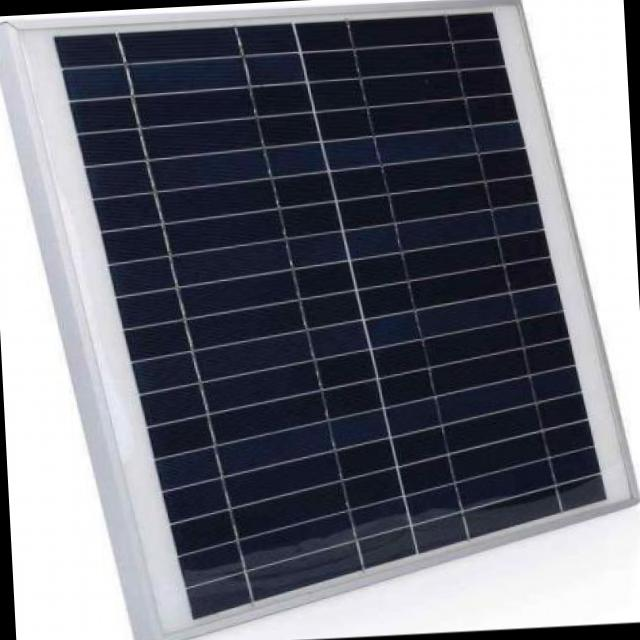no faulty: (60, 9, 594, 621)
